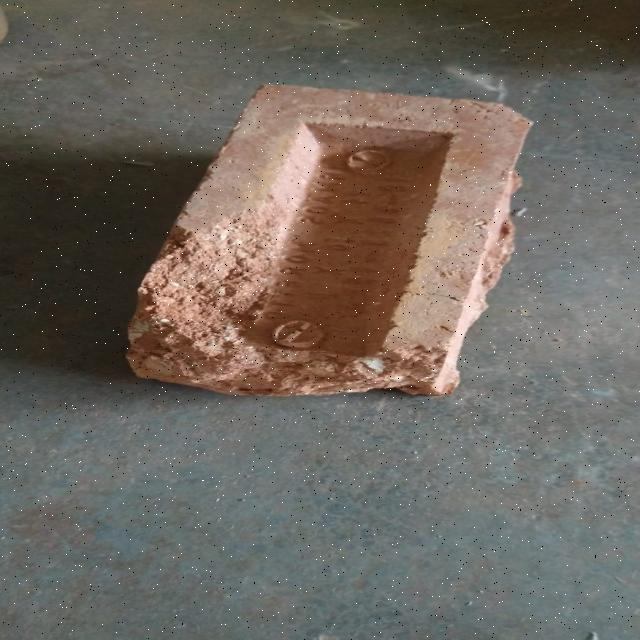bricks_ruin: (123, 74, 532, 399)
